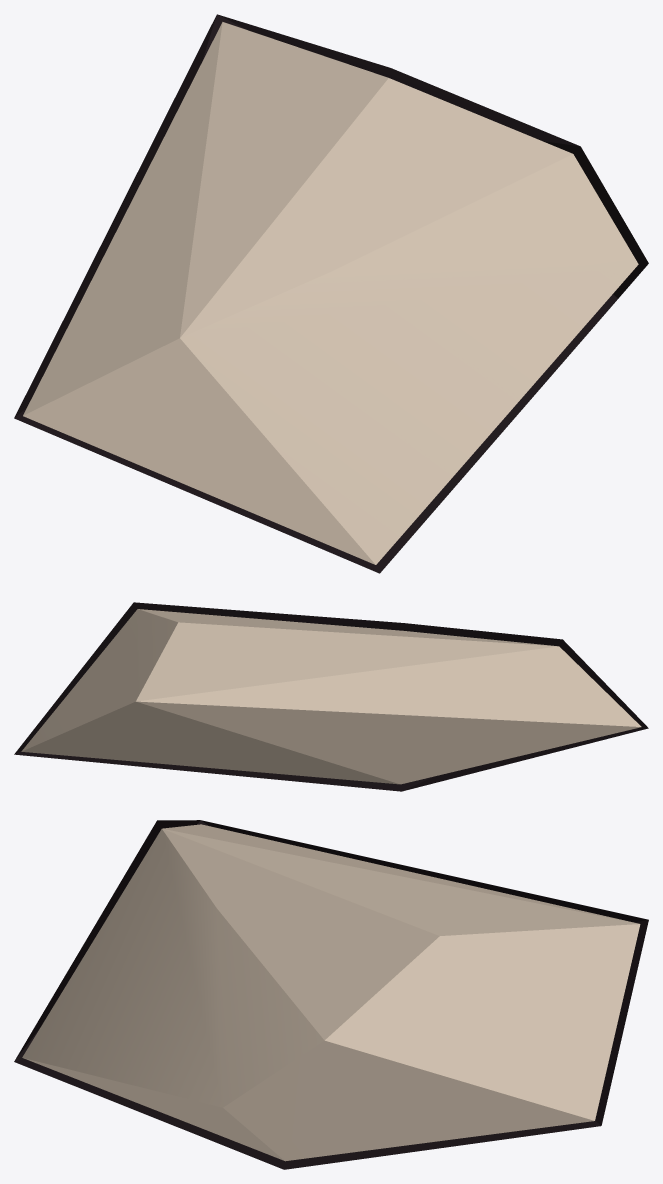
File: SM_Mtn_Shard_03.fbx
3 renders of one model, top to bottom at view 1: azimuth 30°, elevation 25°; view 2: azimuth 150°, elevation 25°; view 3: azimuth 270°, elevation 25°, orthographic. The views are drawn at different scales.
Parts seen in each view (by area): view 1: SM_Mtn_Shard_03; view 2: SM_Mtn_Shard_03; view 3: SM_Mtn_Shard_03.
Part boxes in pixels (bbox=[...]): SM_Mtn_Shard_03: bbox=[14, 14, 648, 573]; SM_Mtn_Shard_03: bbox=[14, 602, 648, 791]; SM_Mtn_Shard_03: bbox=[14, 820, 648, 1169].
Size of the model in its own units: 4.94 by 1.96 by 4.66.
